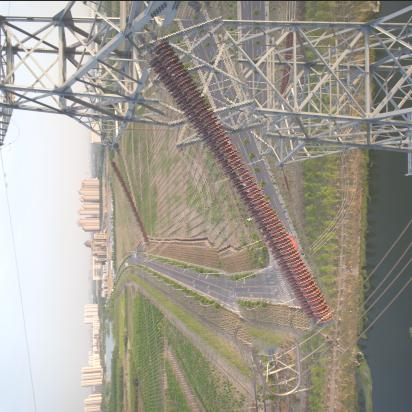insulator: (165, 8, 311, 352), (113, 154, 148, 250)
